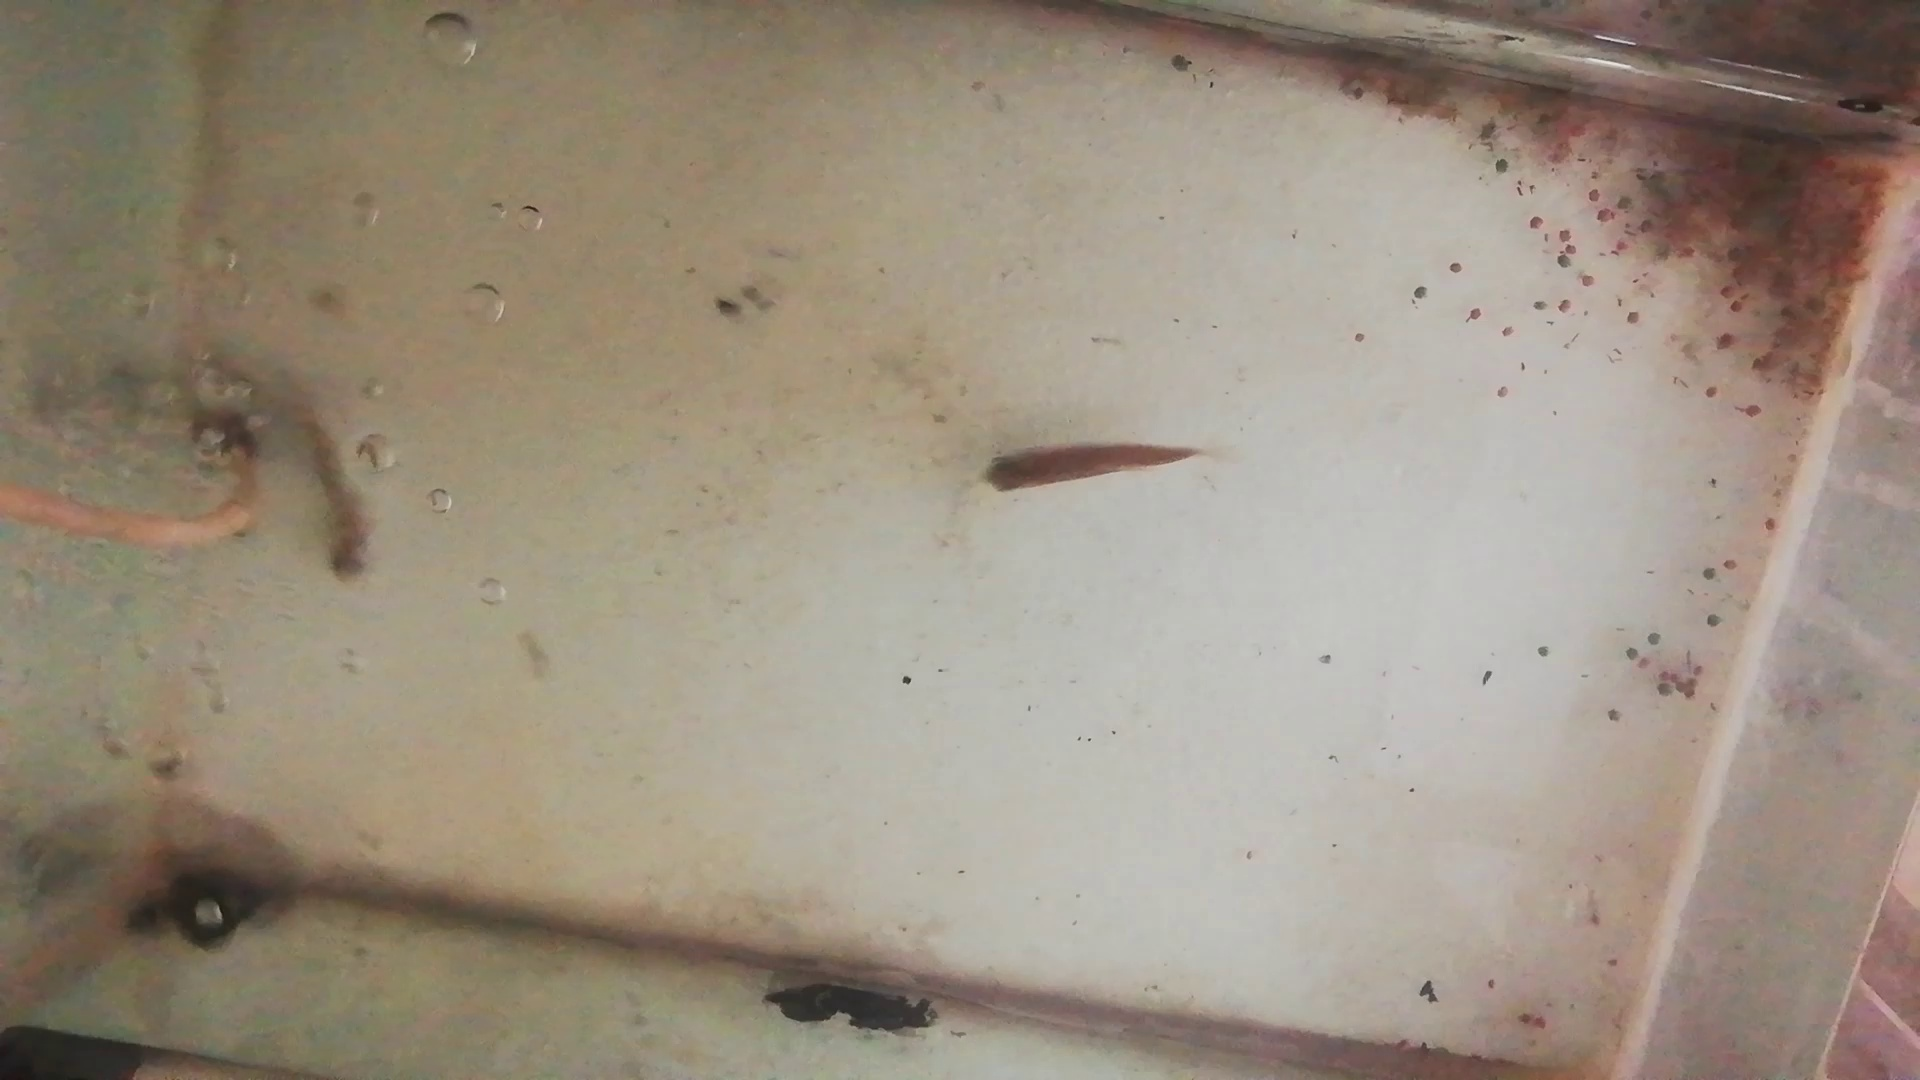fish: (277, 400, 378, 578), (973, 440, 1209, 493)
